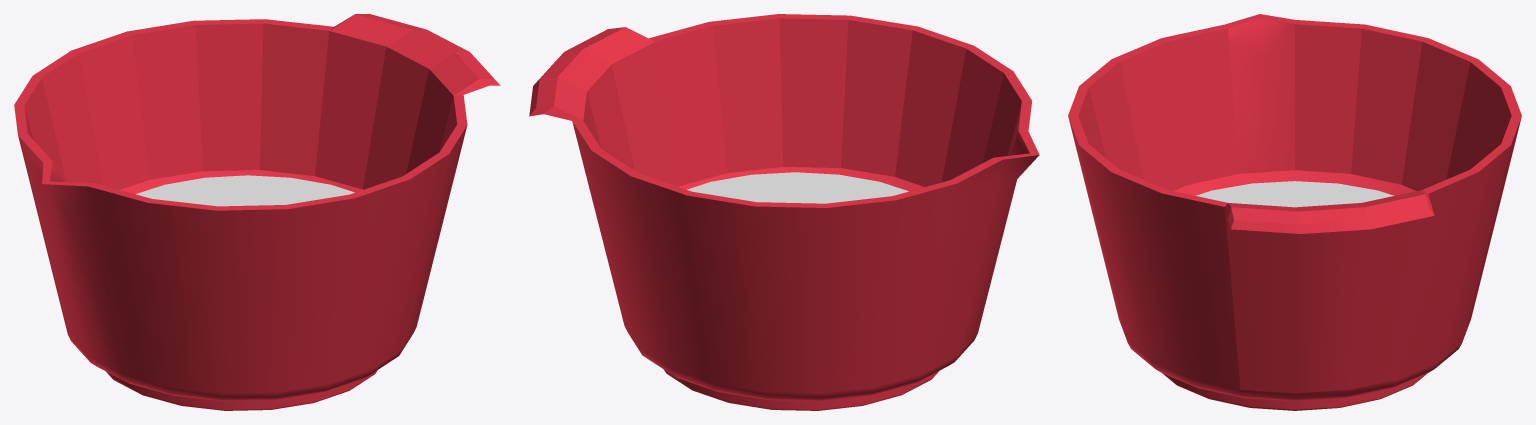
File: Bowl2.fbx
3 renders of one model, left to right at view 1: azimuth 30°, elevation 25°; view 2: azimuth 150°, elevation 25°; view 3: azimuth 270°, elevation 25°, orthographic.
Parts seen in each view (by area): view 1: Bowl2; view 2: Bowl2; view 3: Bowl2.
Boxes of the visible parts, x1,y1,x2,y2 form: Bowl2: (14,14,500,410); Bowl2: (529,14,1039,410); Bowl2: (1068,14,1521,410).
Size of the model in its own units: 0.4126 by 0.2119 by 0.3588.
